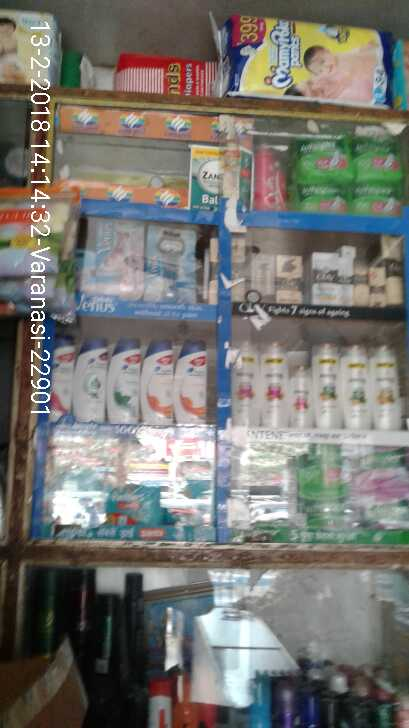venus: (88, 217, 143, 299), (143, 229, 196, 299)
